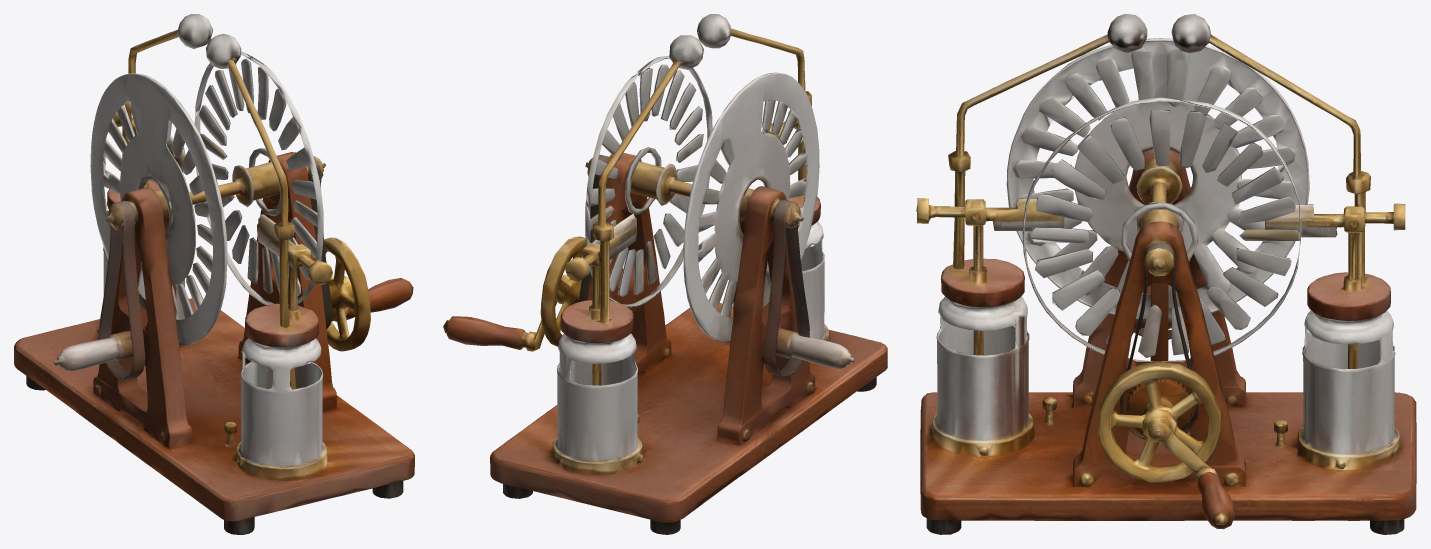
The model's file is wimshurst-machine.glb.
3 renders of one model, left to right at view 1: azimuth 30°, elevation 25°; view 2: azimuth 150°, elevation 25°; view 3: azimuth 270°, elevation 25°, orthographic. The views are drawn at different scales.
Parts seen in each view (by area): view 1: wimshurst-machine; view 2: wimshurst-machine; view 3: wimshurst-machine.
Part boxes in pixels (x1,y1,x2,y2): wimshurst-machine: [14, 14, 414, 534]; wimshurst-machine: [443, 14, 887, 534]; wimshurst-machine: [916, 14, 1416, 534].
Size of the model in its own units: 0.388 by 0.4 by 0.3875.
Materials: 1 (1 with a texture image).
